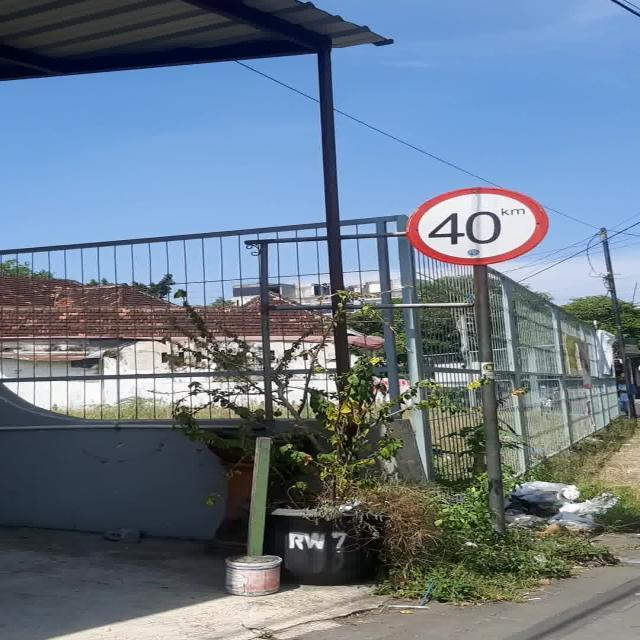Kecepatan Maks. 40 km: (406, 187, 550, 266)
